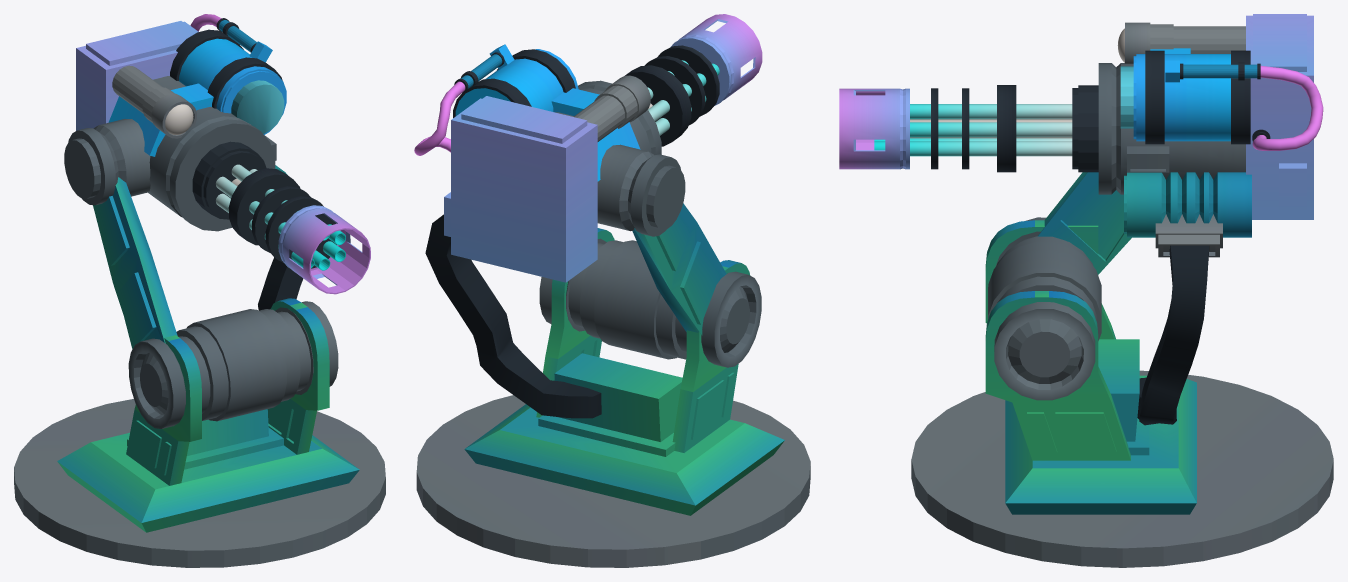
The model's file is Gataling.fbx.
3 views of the same model, side by side, from view 1: azimuth 30°, elevation 25°; view 2: azimuth 150°, elevation 25°; view 3: azimuth 270°, elevation 25° (orthographic). The views are drawn at different scales.
Parts seen in each view (by area): view 1: Taret_Body, Barrel; view 2: Taret_Body, Barrel; view 3: Taret_Body, Barrel.
Part boxes in pixels (bbox=[...]): Taret_Body: bbox=[14, 14, 385, 567]; Barrel: bbox=[192, 141, 370, 294]; Taret_Body: bbox=[414, 44, 810, 567]; Barrel: bbox=[625, 14, 762, 146]; Taret_Body: bbox=[911, 14, 1333, 567]; Barrel: bbox=[839, 85, 1098, 172].
Bounding box in the file's own units: 139 × 168 × 163.
